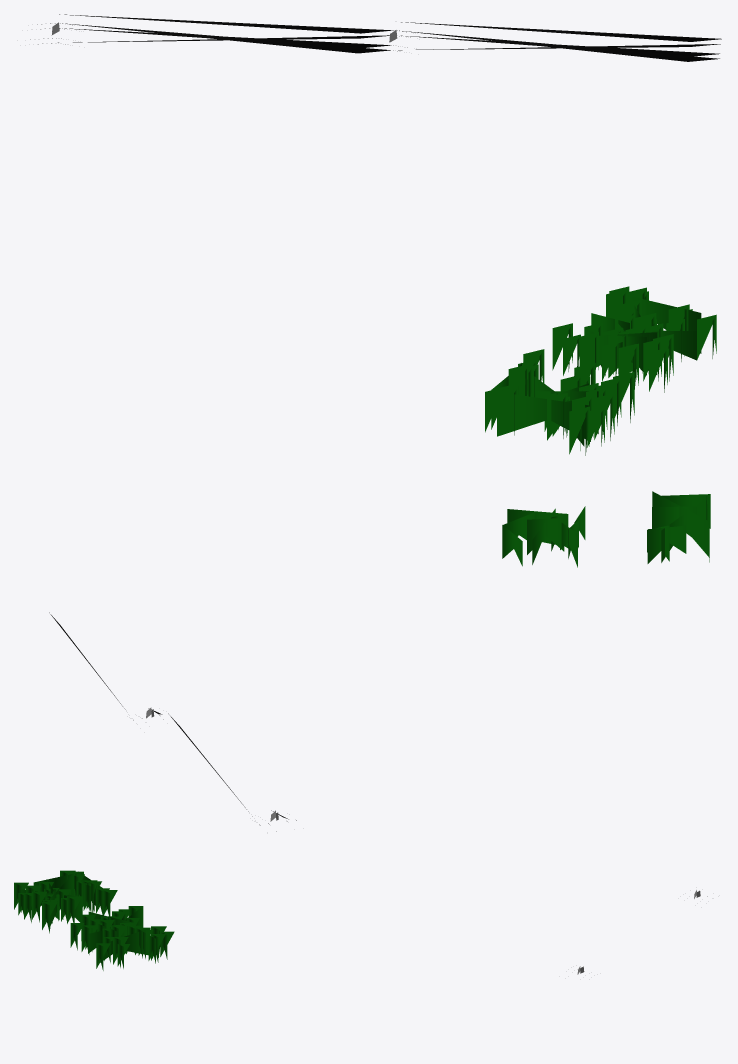
The picture shows the model from 3 angles, top to bottom: view 1: azimuth 30°, elevation 25°; view 2: azimuth 150°, elevation 25°; view 3: azimuth 270°, elevation 25°; orthographic projection. The views are drawn at different scales.
Bounding box in the file's own units: 318 × 24.97 × 556.
